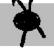not correct: (9, 0, 47, 48)
